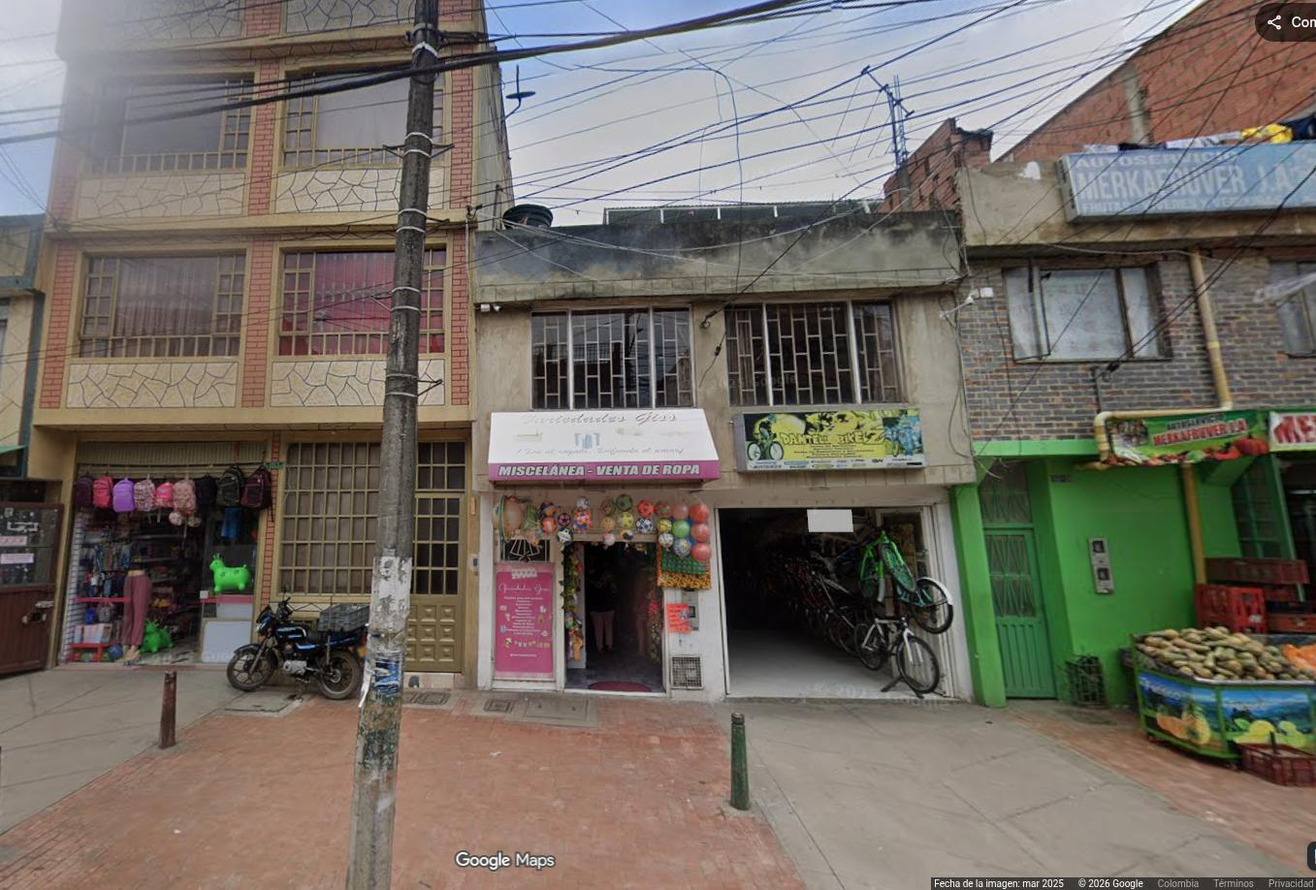casa: (30, 0, 512, 679), (942, 0, 1315, 696), (472, 203, 984, 702)
poste: (347, 0, 443, 889)
